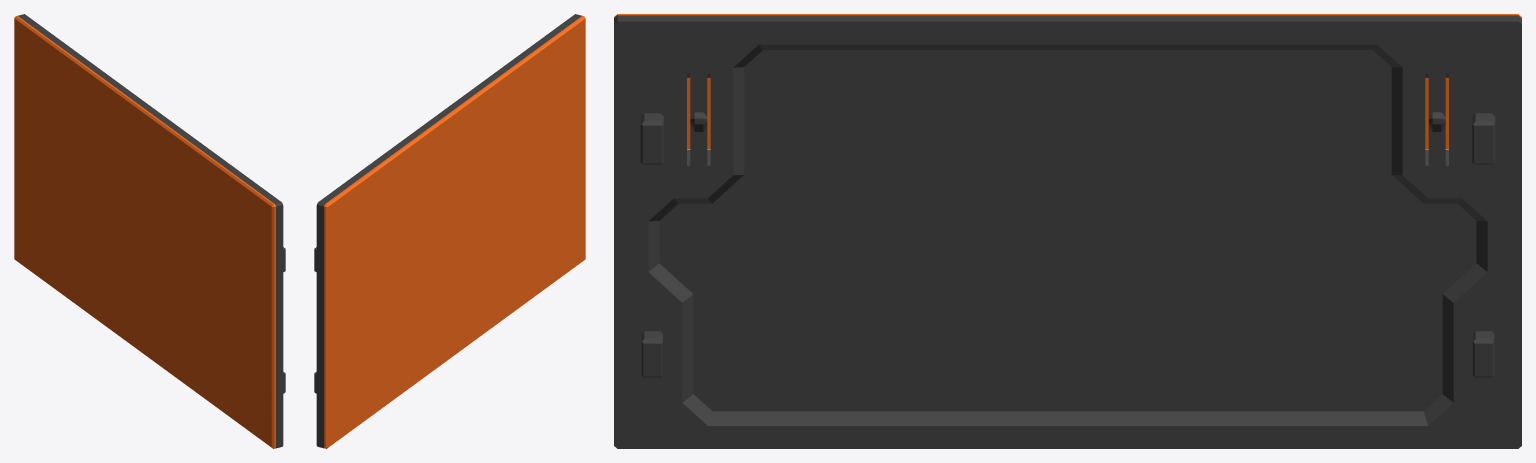
File: SideCover_115-1H.lib.glb
3 views of the same model, side by side, from view 1: azimuth 30°, elevation 25°; view 2: azimuth 150°, elevation 25°; view 3: azimuth 270°, elevation 25° (orthographic). The views are drawn at different scales.
Parts seen in each view (by area): view 1: SideCover_115-1H; view 2: SideCover_115-1H; view 3: SideCover_115-1H.
Part boxes in pixels (<box>): SideCover_115-1H: <box>14,14,285,448</box>; SideCover_115-1H: <box>314,14,585,448</box>; SideCover_115-1H: <box>614,14,1521,448</box>.
Size of the model in its own units: 5.05 by 55.6 by 107.
